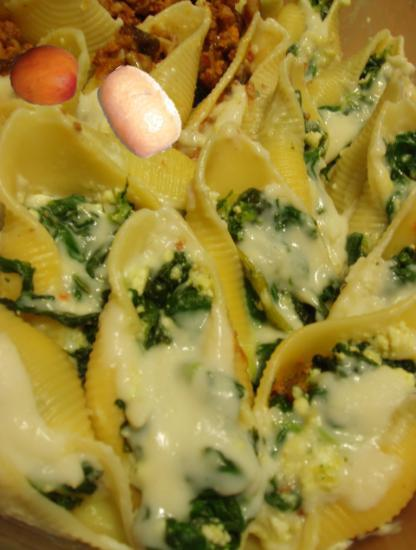Apricot: (9, 40, 81, 112)
Kumquats: (91, 63, 188, 160)
